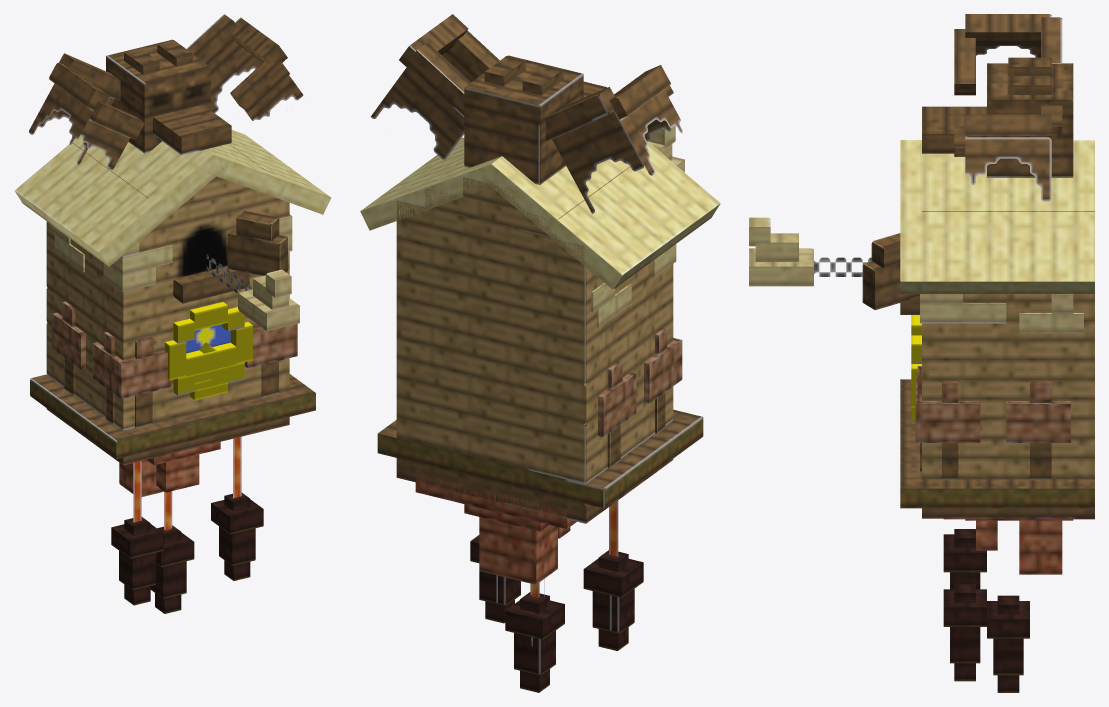
Rendered from cookoo_clock.obj.
3 renders of one model, left to right at view 1: azimuth 30°, elevation 25°; view 2: azimuth 150°, elevation 25°; view 3: azimuth 270°, elevation 25°, orthographic. The views are drawn at different scales.
Parts seen in each view (by area): view 1: roof1, box1, base1, dragonHead, box5, roof2, tree16, dragonMouth, door1, shelf, base2, tree9 (+44 smaller); view 2: box1, roof1, box5, box4, dragonHead, base1, roof2, base6, base2, wing8, wing2, base3 (+22 smaller); view 3: roof2, box1, base1, box5, dragonHead, box4, wing4, tree9, tree14, base6, wing9, wing3 (+24 smaller).
Part boxes in pixels (x1,y1,x2,y2): roof1: (14, 135, 224, 266); box1: (46, 190, 289, 343); base1: (30, 374, 315, 458); dragonHead: (106, 39, 210, 153); box5: (46, 323, 289, 430); roof2: (207, 130, 331, 214); tree16: (92, 342, 171, 398); dragonMouth: (153, 104, 231, 154); door1: (227, 229, 287, 275); shelf: (173, 266, 249, 303); base2: (46, 408, 289, 465); tree9: (245, 324, 297, 367); box1: (396, 200, 673, 384); roof1: (482, 119, 720, 289); box5: (396, 379, 673, 483); box4: (396, 335, 658, 424); dragonHead: (464, 55, 583, 184); base1: (377, 409, 703, 508); roof2: (360, 137, 501, 230); base6: (479, 517, 557, 584); base2: (396, 458, 673, 523); wing8: (552, 111, 644, 213); wing2: (370, 66, 464, 159); base3: (415, 474, 586, 528); roof2: (900, 140, 1094, 293); box1: (922, 294, 1094, 381); base1: (900, 379, 1094, 508); box5: (922, 420, 1094, 479); dragonHead: (987, 63, 1073, 177); box4: (958, 381, 1094, 420); wing4: (965, 137, 1051, 201); tree9: (915, 378, 980, 442); tree14: (1006, 401, 1070, 442); base6: (1019, 520, 1062, 574); wing9: (965, 14, 1051, 43); wing3: (965, 114, 1051, 138).
Size of the model in its own units: 0.4708 by 1 by 0.5001.
